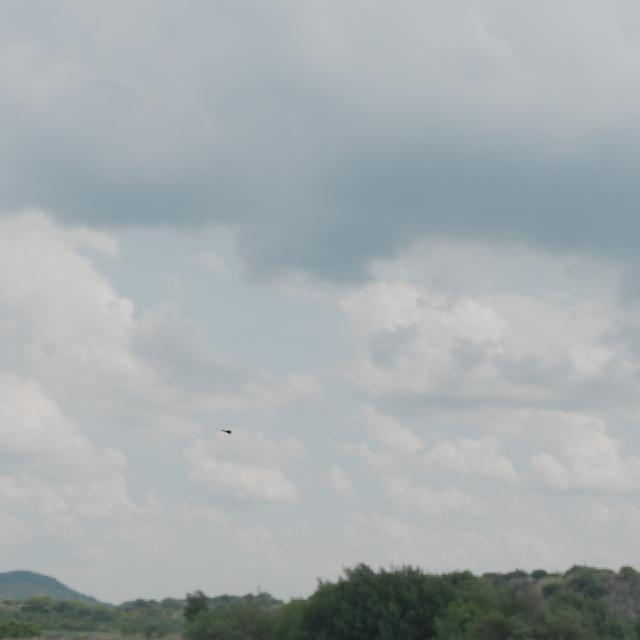Airaplan: (220, 429, 233, 435)
